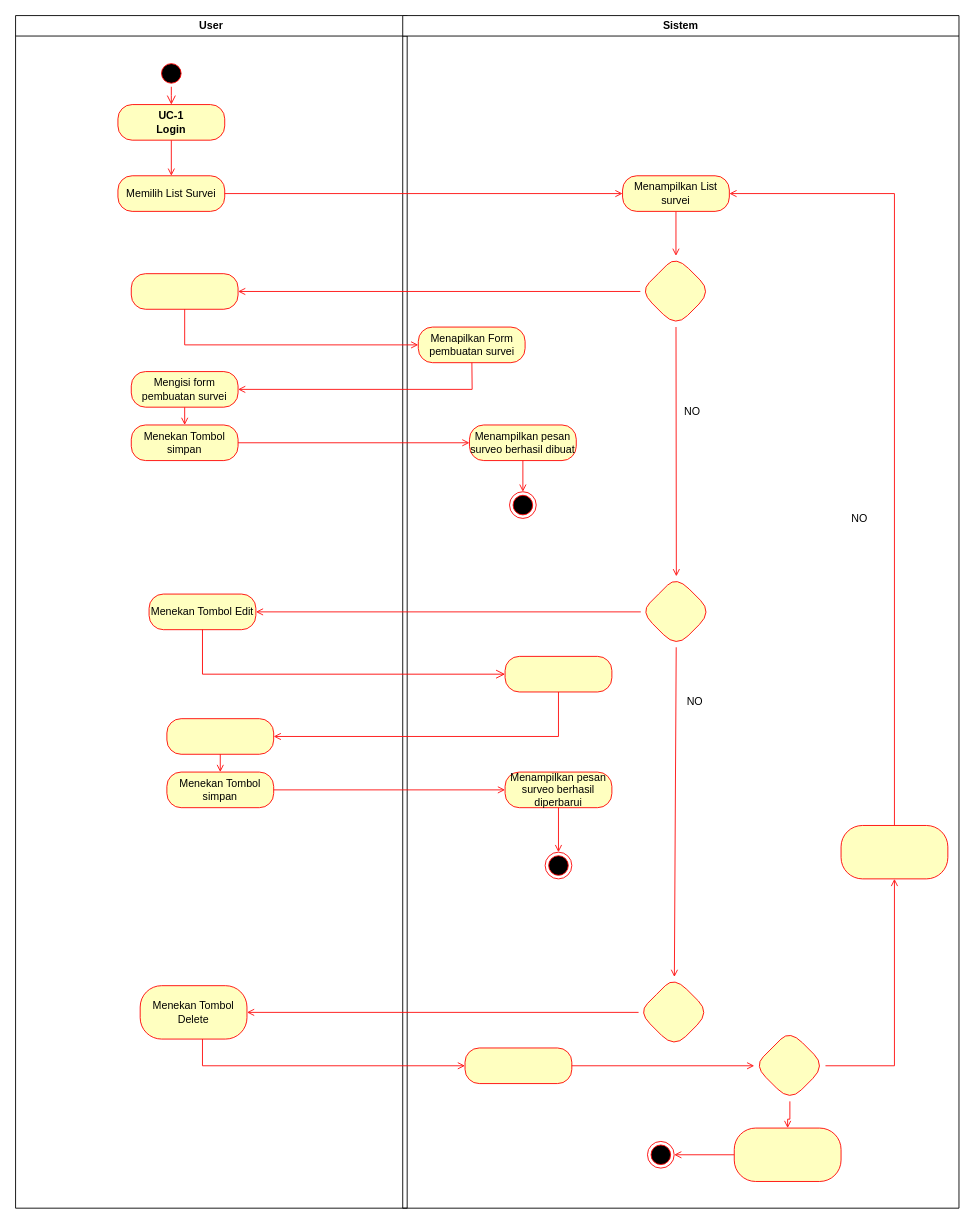
Some shapes in this 975 by 1224 pixel diagram are drawn without their labels. Here are the shapes that lost their labels. From the top down, the centre of each, then its label:
[184,291]: Menekan tombol create
[558,673]: Menapilkan Form survei
[220,736]: Memperbarui form survei
[894,852]: Menampilkan pesan tidak berhasil dihapus
[518,1065]: MEnpilkan pesan Ya atau Tidak
[787,1154]: menapilkan pesan berhasil dihapus
